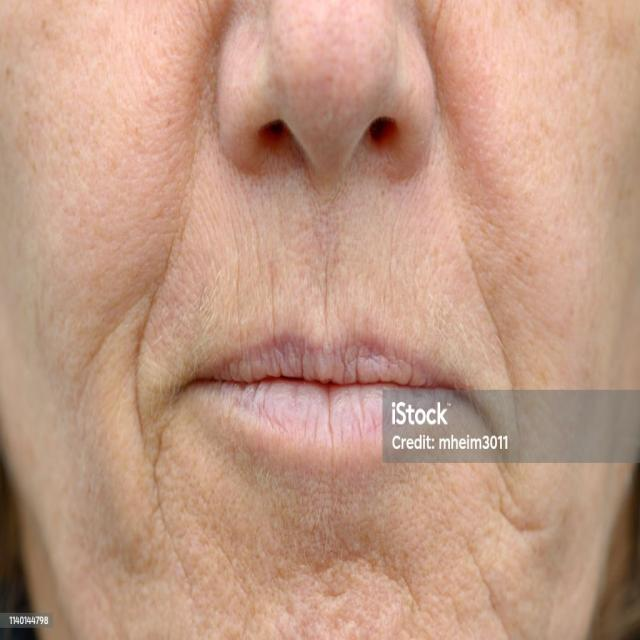Dry-Skin: (42, 384, 528, 587), (460, 28, 632, 436), (242, 446, 504, 640), (227, 66, 441, 303), (51, 80, 234, 253), (527, 486, 640, 618)
